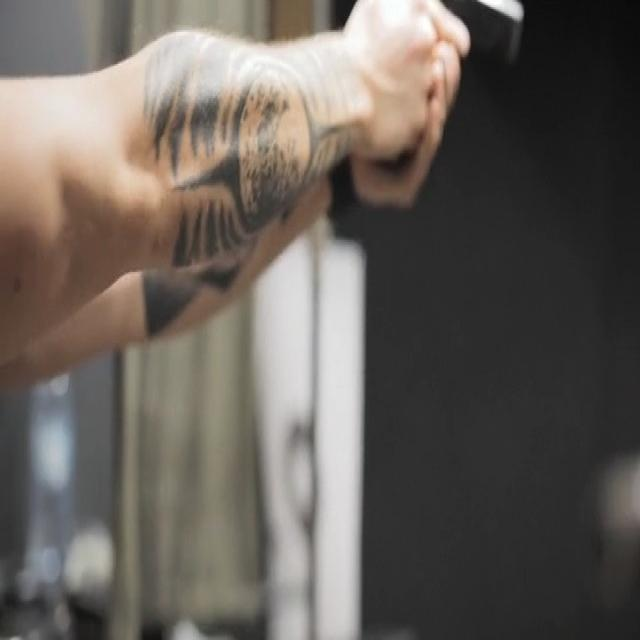Gun_Holder: (276, 2, 553, 228)
